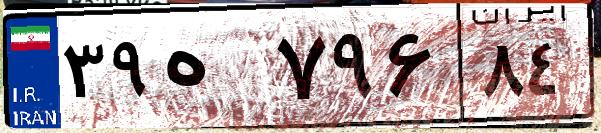3: (57, 26, 110, 100)
4: (525, 38, 570, 115)
6: (385, 28, 445, 110)
7: (270, 28, 330, 110)
8: (475, 38, 525, 113)
9: (330, 28, 385, 110), (110, 28, 158, 98)
ه: (158, 20, 270, 120)
